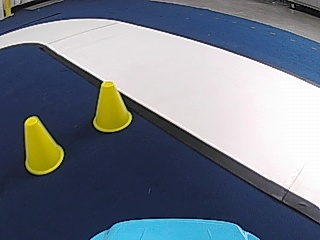cone: (22, 115, 64, 174), (92, 82, 131, 132)
